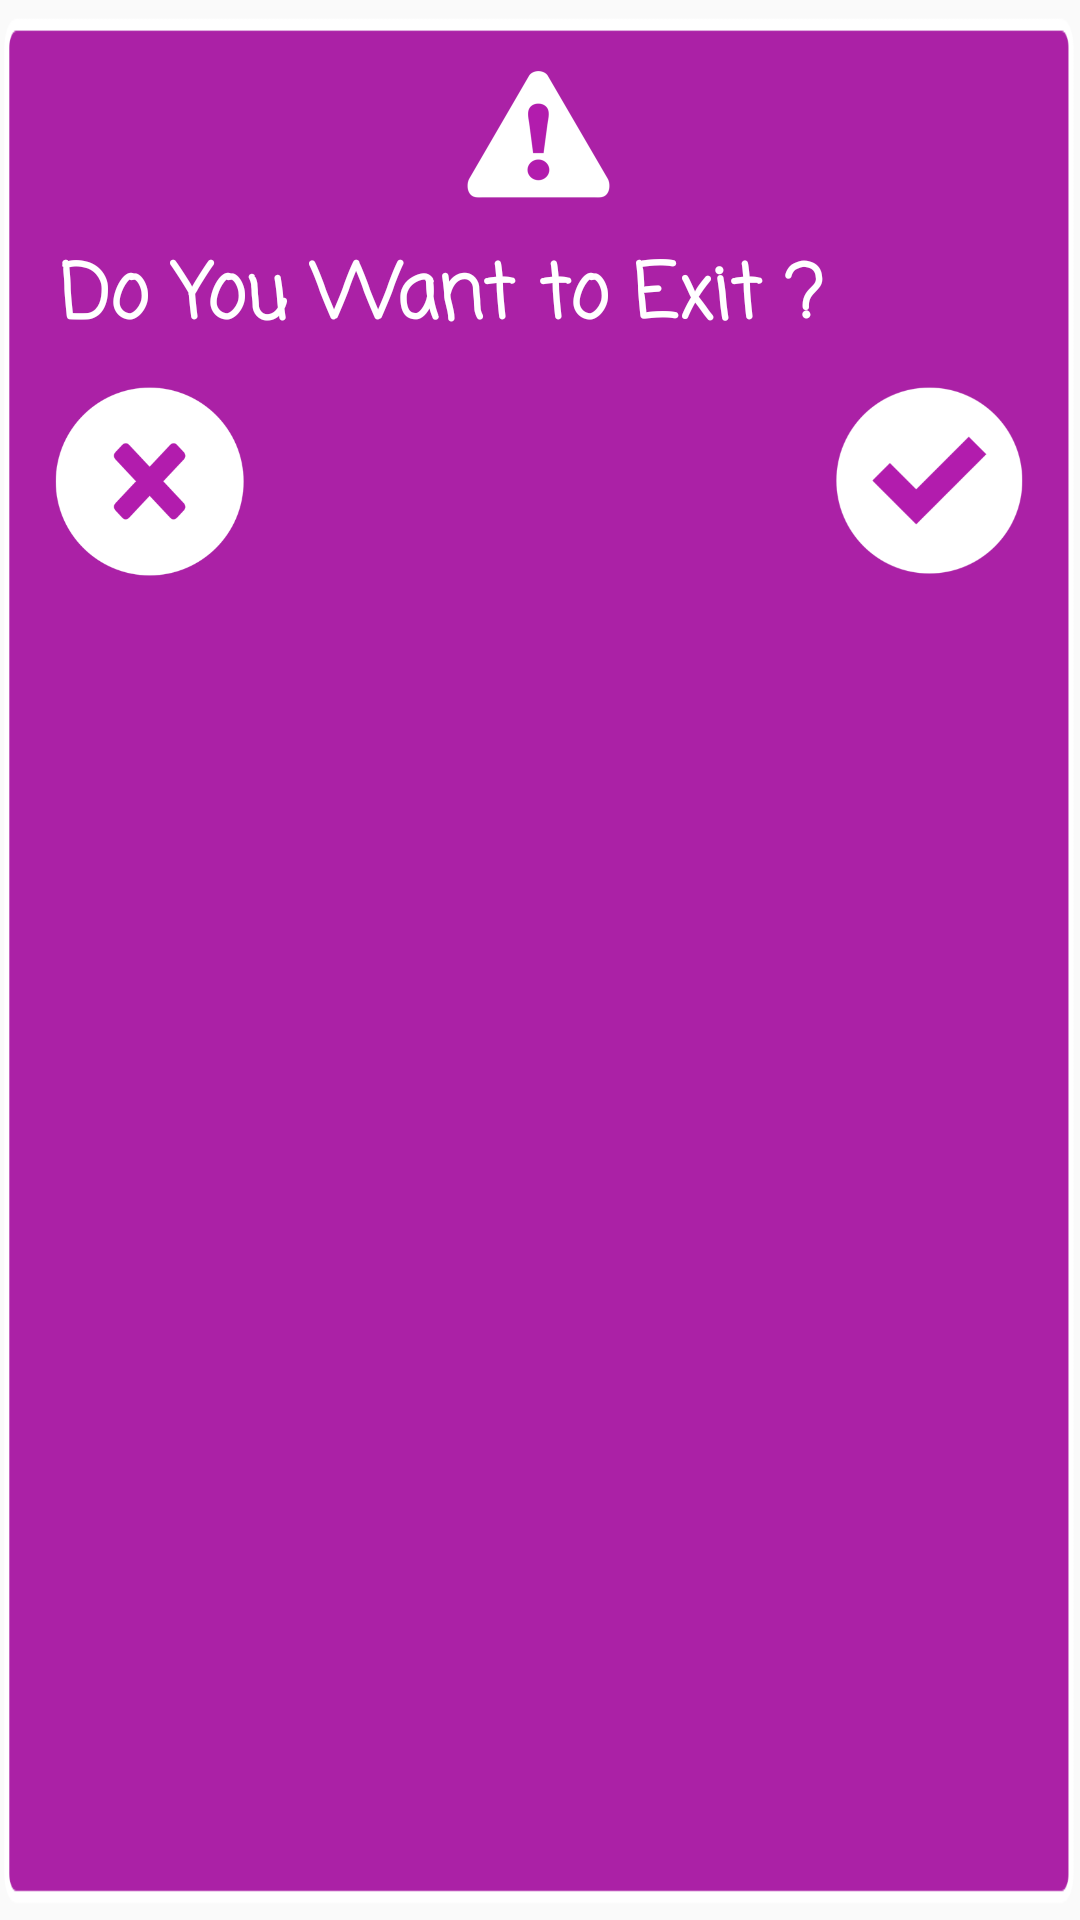

Icon bounding boxes for this 1080 x 1920 phone screenshot, format box=[x1, y1, x2, y2]:
alert: box=[467, 71, 610, 198]
close: box=[56, 387, 244, 576]
tick: box=[836, 387, 1023, 574]
